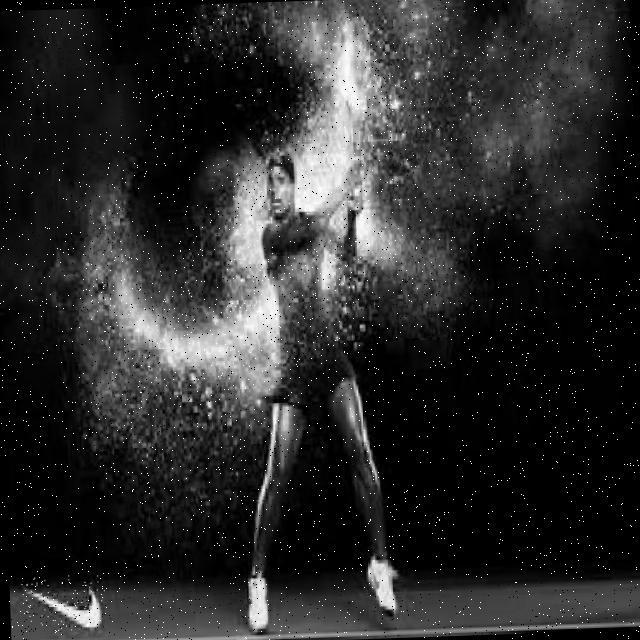Nike: (21, 574, 107, 633)
